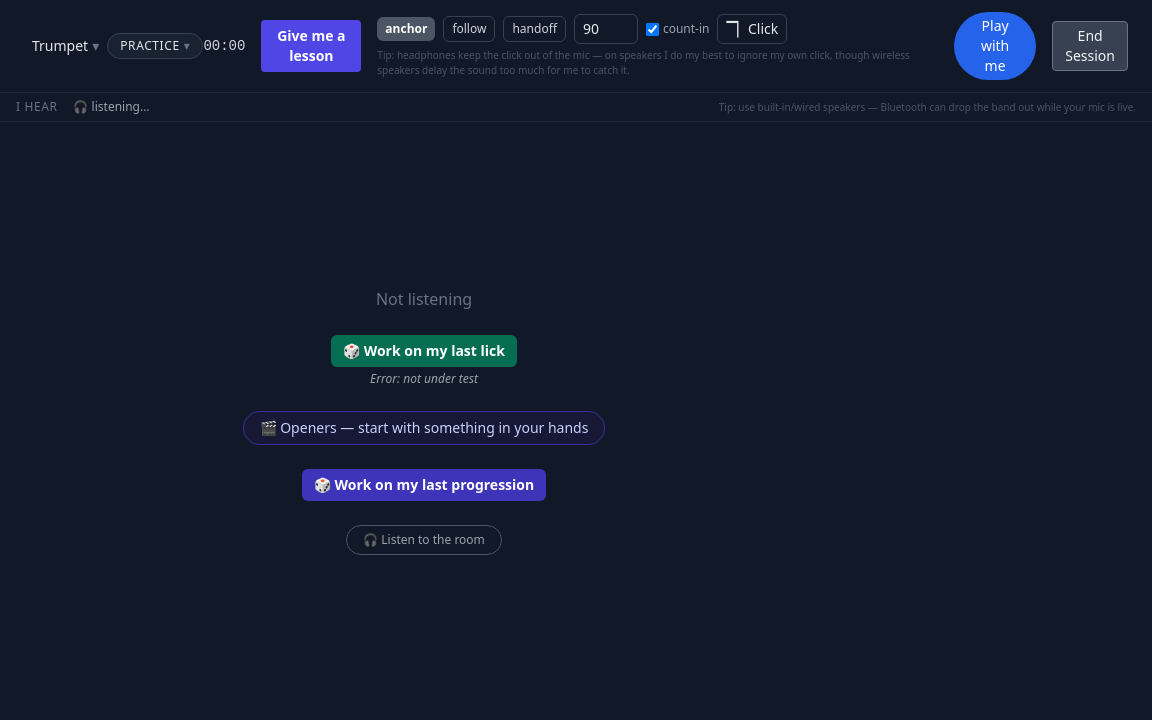
it: PracticeSession › listen-to-room swaps the centerpiece for the chord lane
Click the button with test id "listen-to-room-toggle": x=424, y=540 [346, 525, 502, 555]
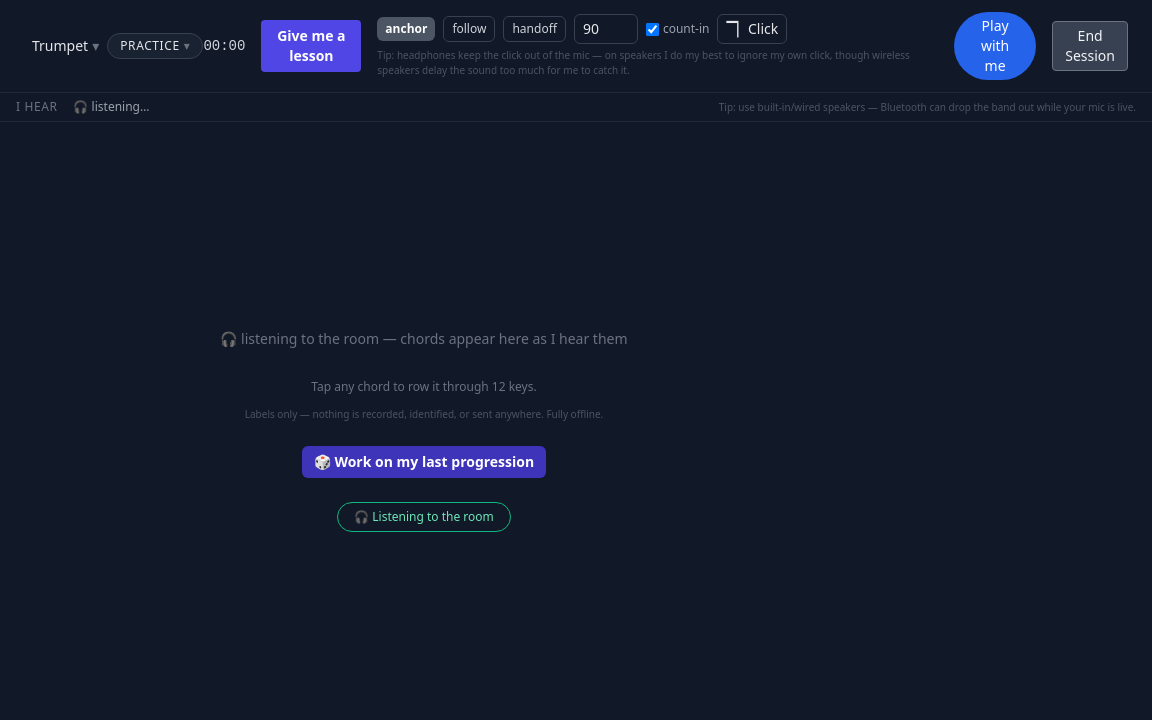
Check: the element with test id "chord-lane" is shown, box [220, 310, 628, 422]
Check: the button with test id "listen-to-room-toggle" shows "Listening to the room"
Click the button with test id "listen-to-room-toggle": x=424, y=516 [337, 502, 511, 532]
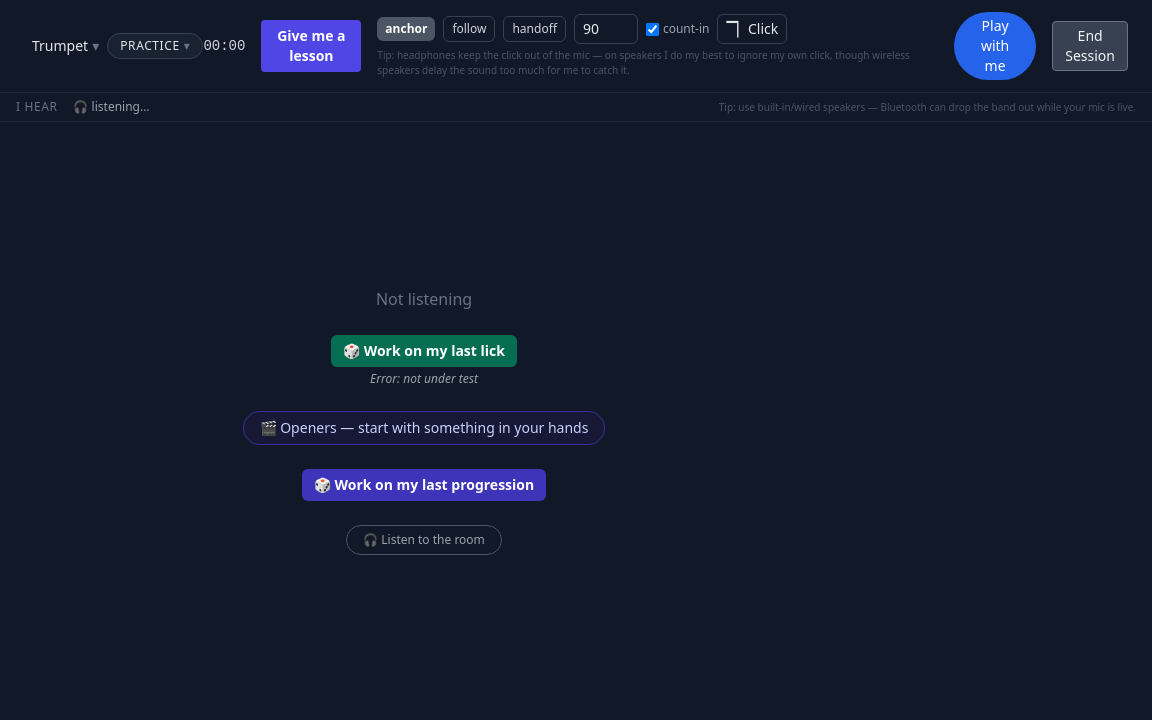
Check: the element with test id "chord-lane" is gone
